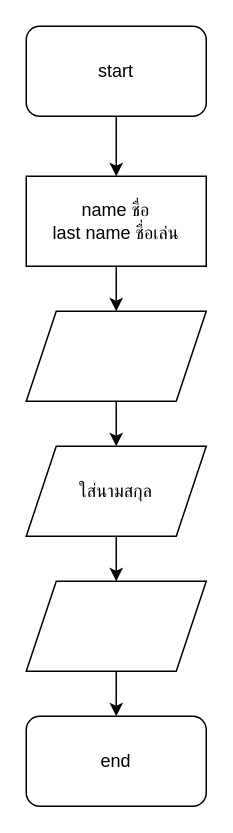
The diagram is 233 pixels wide and 833 high, and some of its shapes have lost their labels. Each missing label, with the centre of its shape:
ออกมาเป็น ชื่อนามสุกล TC, RMUTL, Chiang Mai, Thailand: point (115, 625)
ใส่ชื่อ: point (115, 355)
